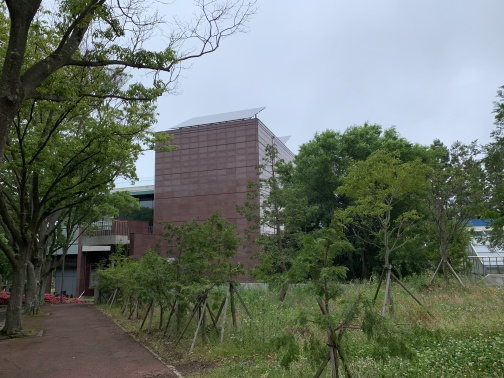Museum: (49, 91, 307, 308)
